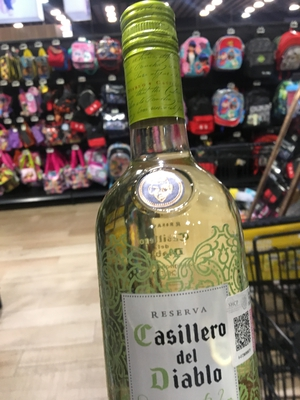casillero del diablo sauvignon blanc: (97, 4, 269, 388)
